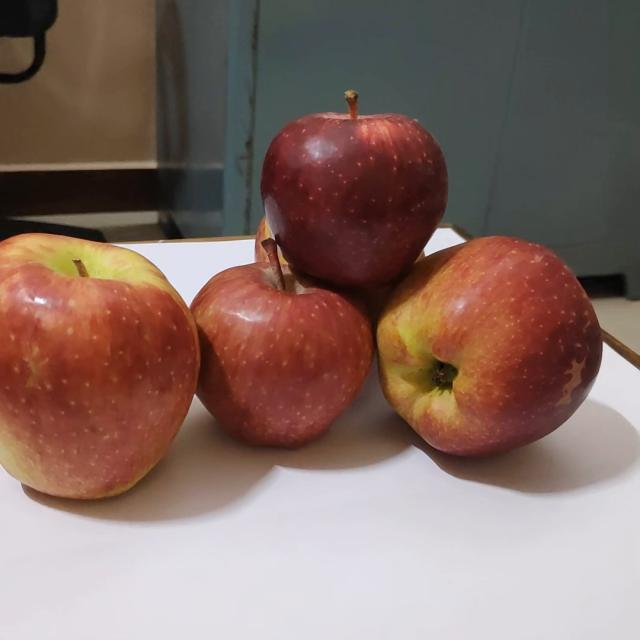apple: (0, 228, 201, 508), (364, 232, 609, 460), (184, 235, 376, 453), (258, 85, 452, 293), (247, 212, 436, 274)
